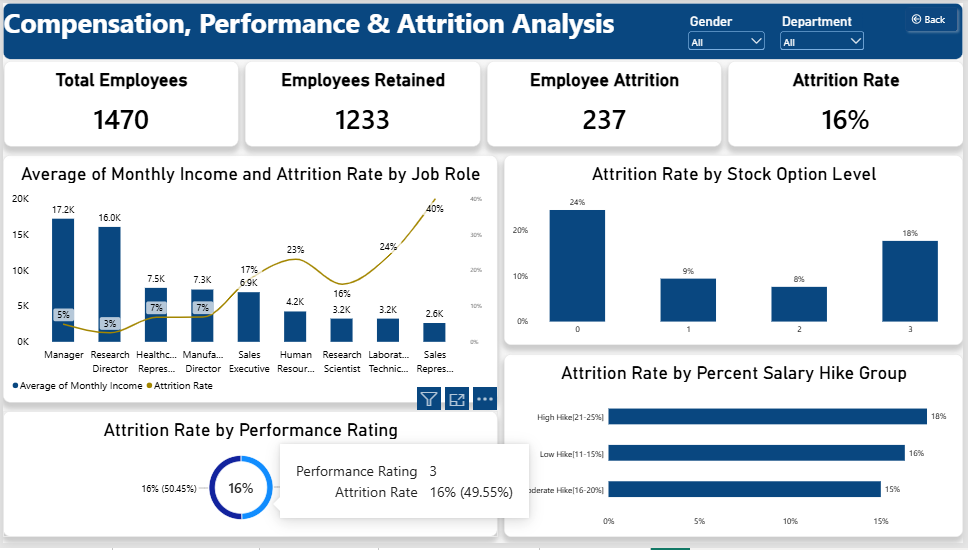

This screenshot's page, from the dashboard's own definition file:
{"tool":"powerbi","page":{"name":"Compensation","canvas":[1920,1080],"ordinal":2},"visuals":[{"type":"textbox","box":[0,0,1920.2,113],"z":0},{"type":"lineStackedColumnComboChart","fields":{"Category":["IBM_HR_Employee_Attrition.Job Role"],"Y":["Avg(IBM_HR_Employee_Attrition.Monthly Income)"],"Y2":["IBM_HR_Employee_Attrition.Attrition Rate"]},"box":[0,304.6,989.3,494.6],"z":1000},{"type":"card","title":"Total Employees","fields":{"Values":["CountNonNull(IBM_HR_Employee_Attrition.Employee Number)"]},"box":[2.2,116.6,468.7,170.6],"z":2000},{"type":"card","title":"Employees Retained","fields":{"Values":["IBM_HR_Employee_Attrition.Employees Retained"]},"box":[483.8,116.6,470.9,170.6],"z":3000},{"type":"card","title":"Employee Attrition","fields":{"Values":["Sum(IBM_HR_Employee_Attrition.Attrition Count)"]},"box":[967.7,116.6,468.7,170.6],"z":4000},{"type":"card","title":"Attrition Rate","fields":{"Values":["IBM_HR_Employee_Attrition.Attrition Rate"]},"box":[1449.1,116.6,470.9,170.6],"z":5000},{"type":"donutChart","fields":{"Series":["IBM_HR_Employee_Attrition.Performance Rating"],"Y":["IBM_HR_Employee_Attrition.Attrition Rate"]},"box":[0,816.5,989,251],"z":6000},{"type":"clusteredBarChart","fields":{"Category":["IBM_HR_Employee_Attrition.Percent Salary Hike Group"],"Y":["IBM_HR_Employee_Attrition.Attrition Rate"]},"box":[1002.2,702,918,366],"z":7000},{"type":"columnChart","fields":{"Category":["IBM_HR_Employee_Attrition.Stock Option Level"],"Y":["IBM_HR_Employee_Attrition.Attrition Rate"]},"box":[1002.2,304.6,918,380.2],"z":8000},{"type":"actionButton","box":[1795,0,122.5,65],"z":9000},{"type":"slicer","fields":{"Values":["IBM_HR_Employee_Attrition.Gender"]},"box":[1365.1,19.4,162,75.6],"z":10000},{"type":"slicer","fields":{"Values":["IBM_HR_Employee_Attrition.Department"]},"box":[1550.9,19.4,177.1,75.6],"z":11000}]}

Visuals, with their boxes in screenshot pixels (x1, y1, x2, y2), scaled from the page's 1920x1080 canvas onto the 968x550 screenshot:
textbox: 0, 0, 967, 58
lineStackedColumnComboChart - IBM_HR_Employee_Attrition.Job Role x Avg(IBM_HR_Employee_Attrition.Monthly Income): 0, 155, 499, 407
"Total Employees" card: 1, 59, 237, 146
"Employees Retained" card: 244, 59, 481, 146
"Employee Attrition" card: 488, 59, 724, 146
"Attrition Rate" card: 731, 59, 967, 146
donutChart - IBM_HR_Employee_Attrition.Performance Rating x IBM_HR_Employee_Attrition.Attrition Rate: 0, 416, 499, 544
clusteredBarChart - IBM_HR_Employee_Attrition.Percent Salary Hike Group x IBM_HR_Employee_Attrition.Attrition Rate: 505, 358, 967, 544
columnChart - IBM_HR_Employee_Attrition.Stock Option Level x IBM_HR_Employee_Attrition.Attrition Rate: 505, 155, 967, 349
actionButton: 905, 0, 967, 33
slicer - IBM_HR_Employee_Attrition.Gender: 688, 10, 770, 48
slicer - IBM_HR_Employee_Attrition.Department: 782, 10, 871, 48
